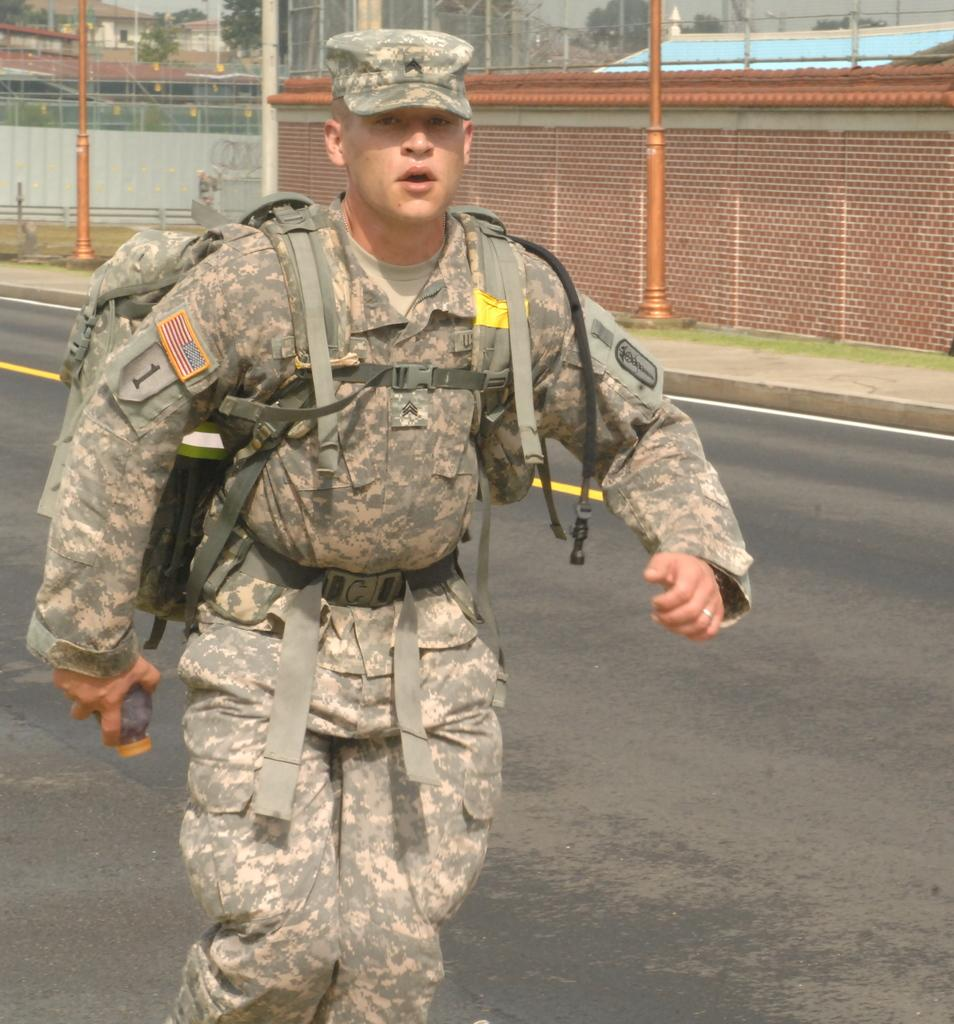Luggage-and-bags: (62, 196, 539, 815)
